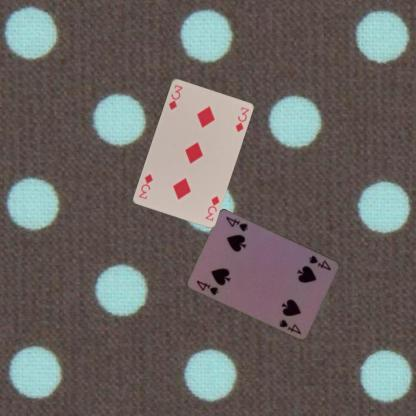3d: (202, 193, 221, 222), (166, 82, 184, 111)
4s: (306, 252, 333, 272), (194, 278, 221, 298)
